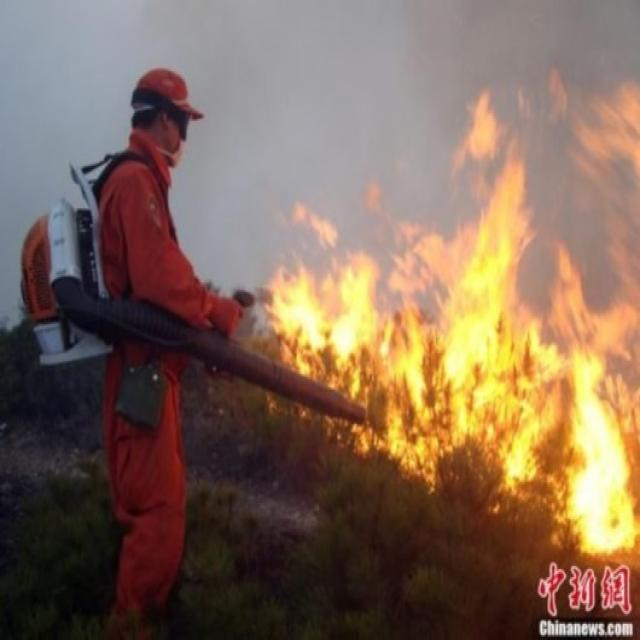Fire: (258, 64, 640, 553)
Smoke: (1, 1, 640, 334)
